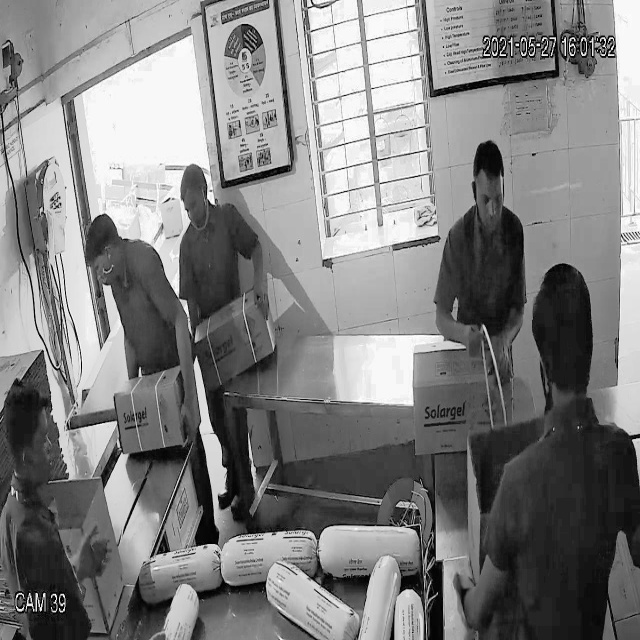Sin_gafas: (466, 180, 516, 218)
